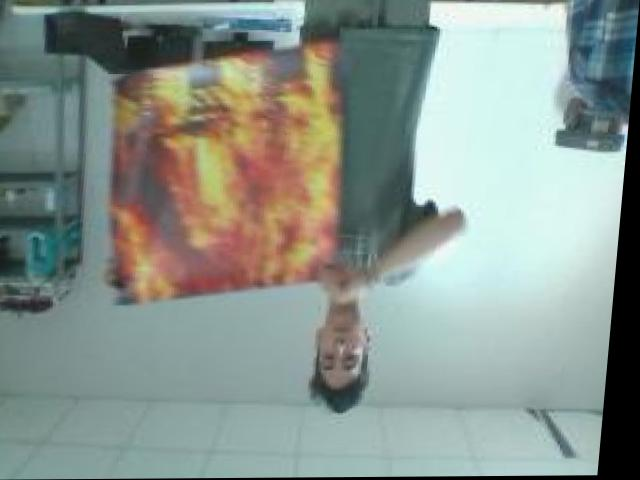fire-poster: (96, 36, 363, 308)
